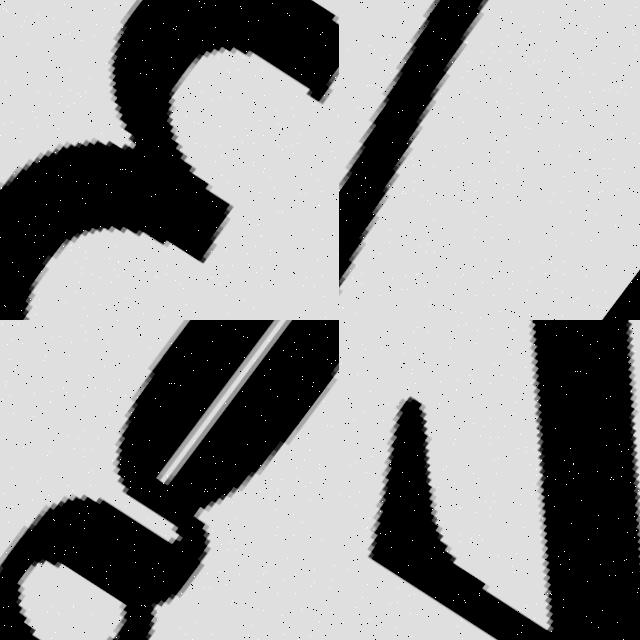3: (0, 0, 339, 320)
G: (0, 320, 339, 640)
L: (339, 0, 640, 320)
Z: (339, 320, 640, 640)
